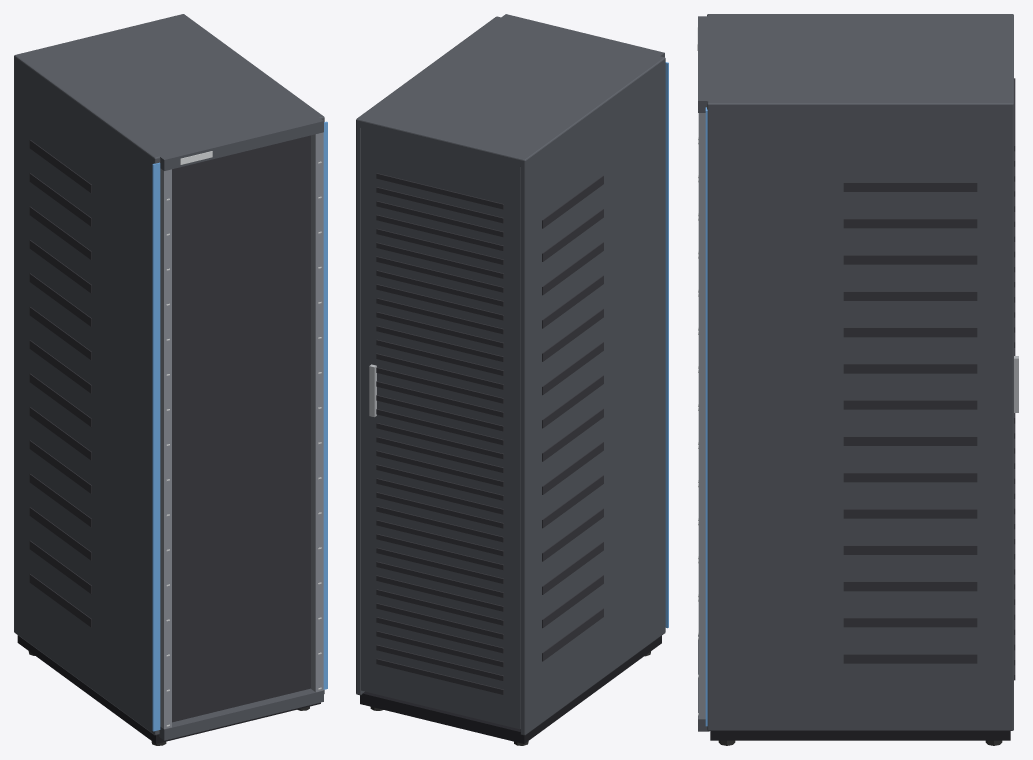
File: rack_hd.fbx
3 views of the same model, side by side, from view 1: azimuth 30°, elevation 25°; view 2: azimuth 150°, elevation 25°; view 3: azimuth 270°, elevation 25° (orthographic). The views are drawn at different scales.
Parts seen in each view (by area): view 1: rack_hd; view 2: rack_hd; view 3: rack_hd.
Boxes of the visible parts, bbox=[...] form: rack_hd: bbox=[14, 14, 327, 745]; rack_hd: bbox=[356, 14, 668, 745]; rack_hd: bbox=[697, 14, 1018, 745].
Bounding box in the file's own units: 0.656 × 2.14 × 0.965.
